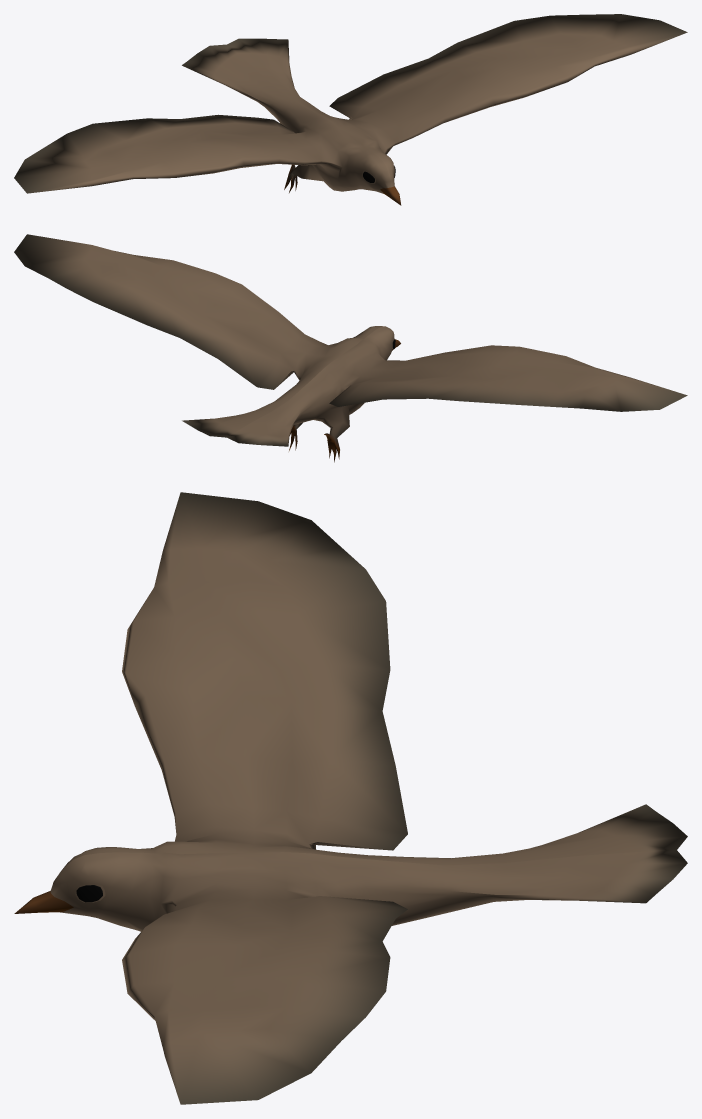
Rendered from animals-birds-dove_v1.fbx.
3 views of the same model, one above another, from view 1: azimuth 30°, elevation 25°; view 2: azimuth 150°, elevation 25°; view 3: azimuth 270°, elevation 25° (orthographic). The views are drawn at different scales.
Parts seen in each view (by area): view 1: Dove.001; view 2: Dove.001; view 3: Dove.001.
Boxes of the visible parts, x1=… form: Dove.001: x1=14, y1=14, x2=687, y2=205; Dove.001: x1=14, y1=234, x2=687, y2=462; Dove.001: x1=14, y1=492, x2=687, y2=1104.
Bounding box in the file's own units: 1.1 × 0.1816 × 0.5131.
